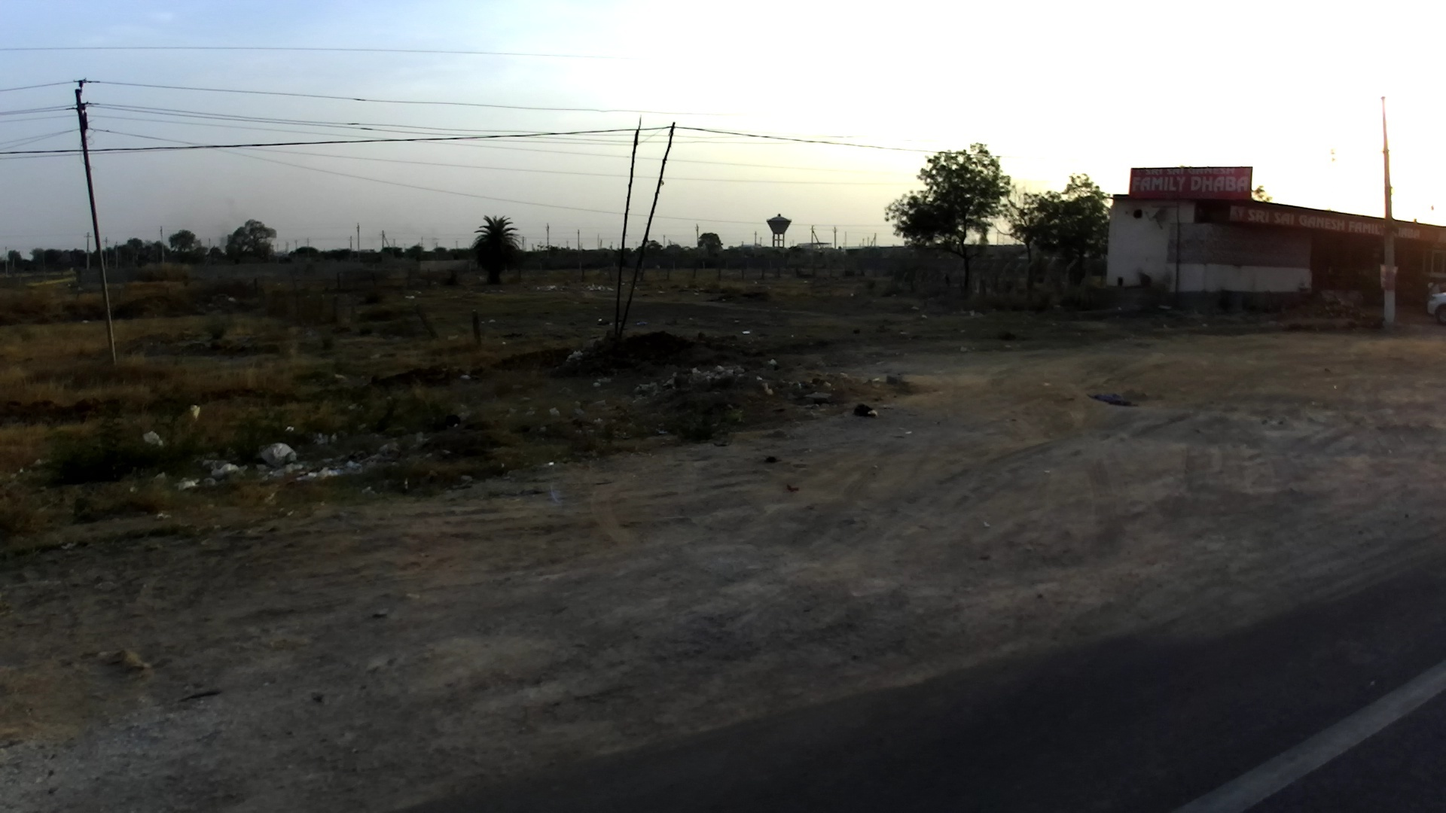car: (1426, 291, 1445, 323)
